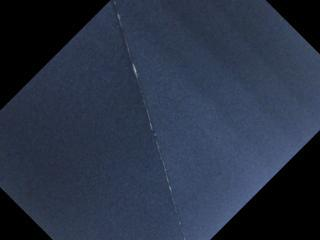crack: (111, 0, 189, 240)
